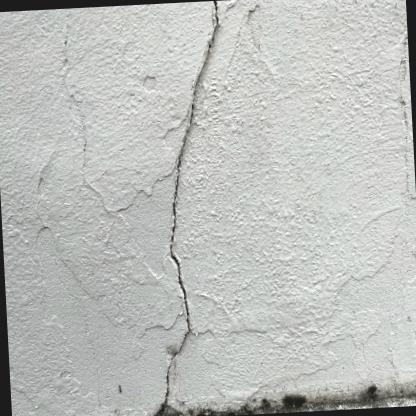crack: (149, 0, 220, 416)
